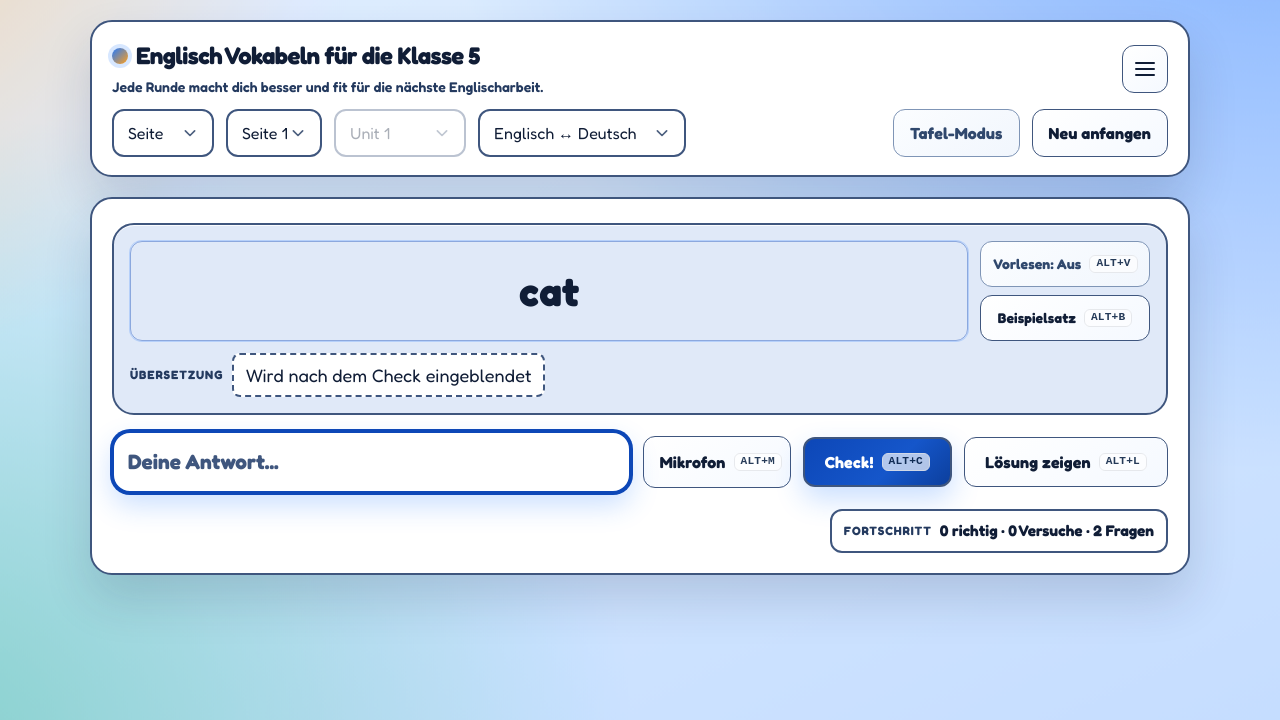
Test: App › accepts a correct regular answer and updates progress
Type "Katze" into the field with placeholder "Deine Antwort..." at [371, 462], box [112, 431, 631, 493]
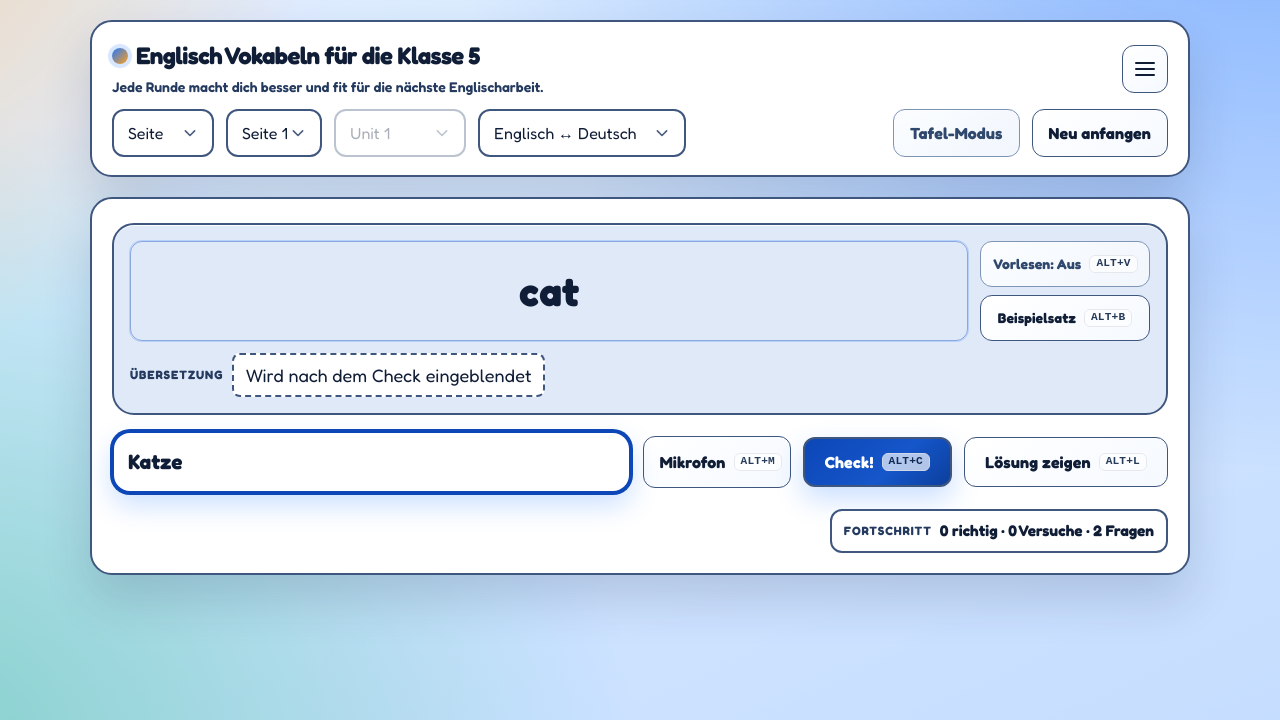
Click the button "Check! Alt+C" at [877, 462], box [803, 437, 952, 487]
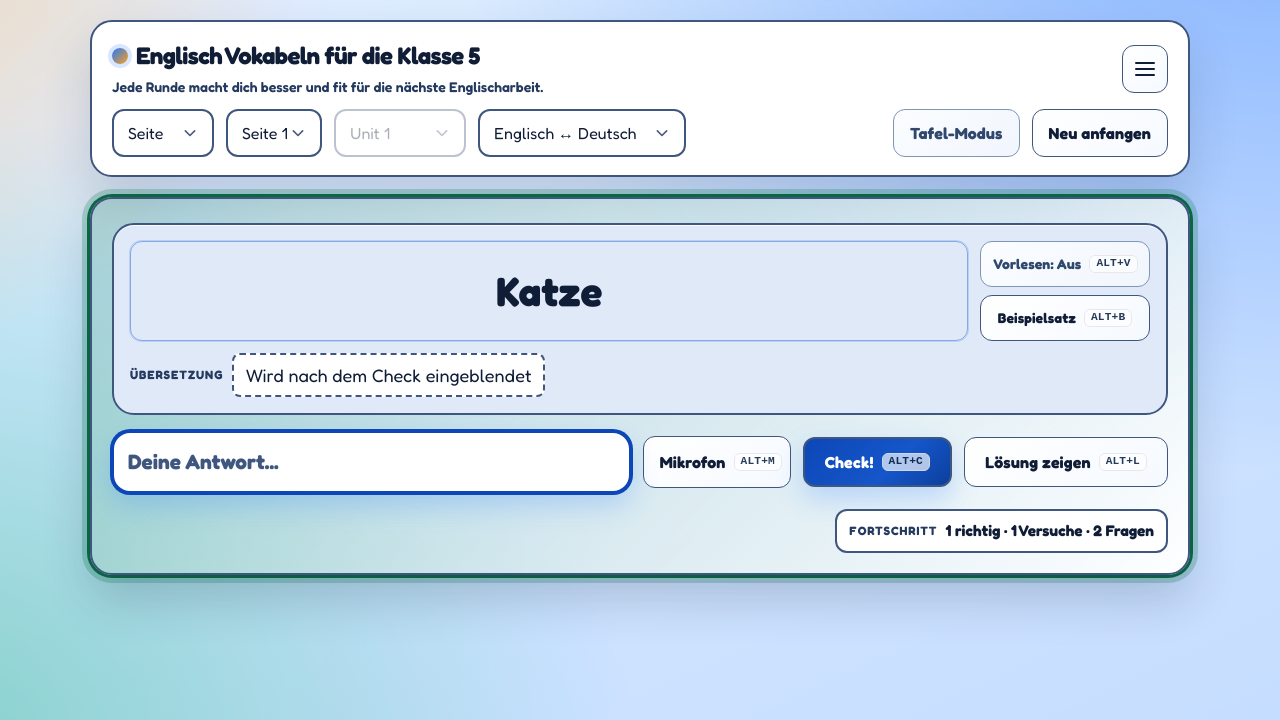
Expected: the text "1 richtig · 1 Versuche · 2 Fragen" is shown, [946, 521, 1154, 541]
